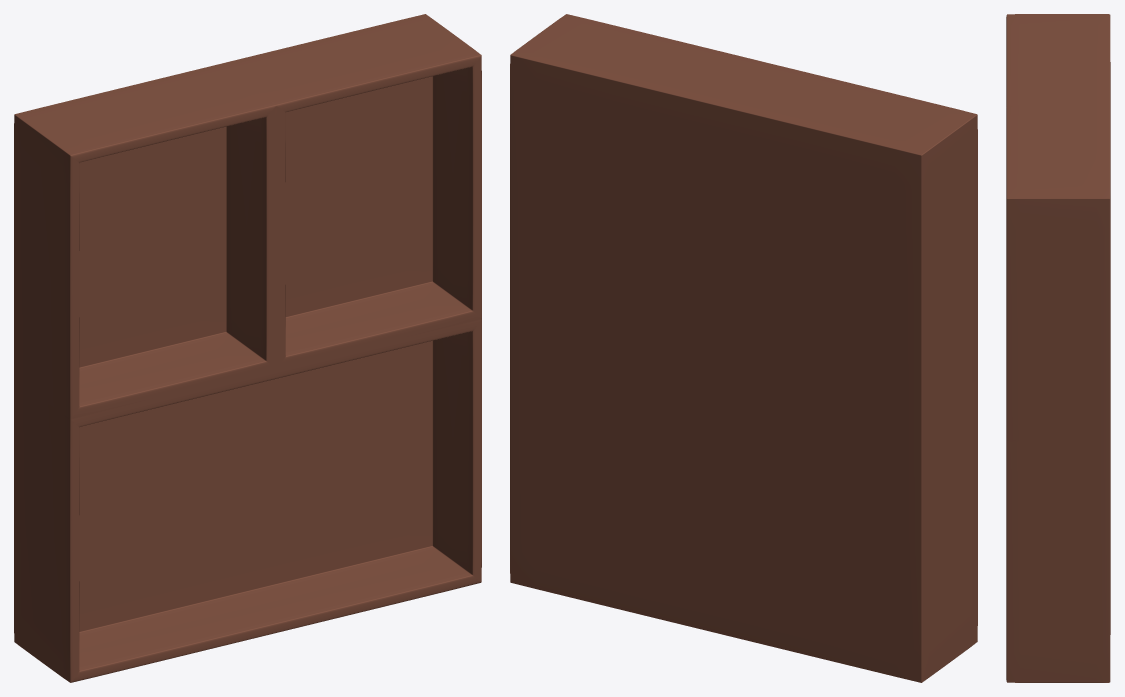
The model's file is CubbyHole2.fbx.
3 renders of one model, left to right at view 1: azimuth 30°, elevation 25°; view 2: azimuth 150°, elevation 25°; view 3: azimuth 270°, elevation 25°, orthographic. The views are drawn at different scales.
Parts seen in each view (by area): view 1: CubbyHole2_High; view 2: CubbyHole2_High; view 3: CubbyHole2_High.
Part boxes in pixels (box(x1,y1,x2,y2)): CubbyHole2_High: box(14, 14, 481, 682); CubbyHole2_High: box(510, 14, 977, 682); CubbyHole2_High: box(1006, 14, 1110, 682).
Size of the model in its own units: 4.2 by 5.14 by 1.
